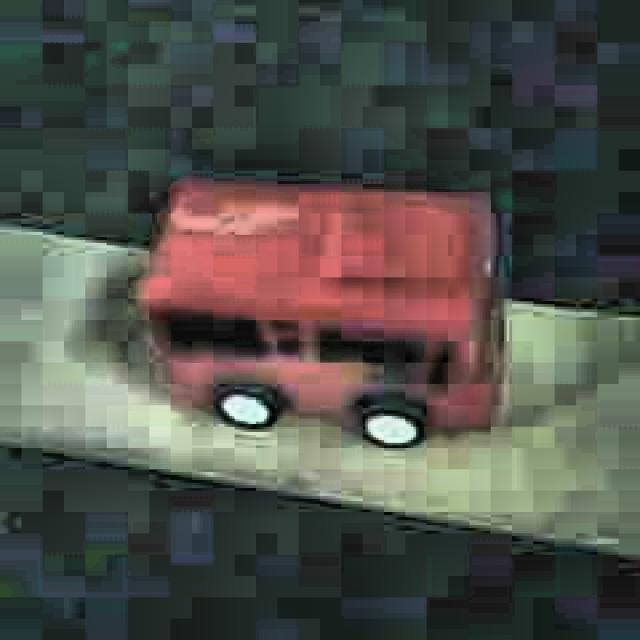bus: (131, 162, 506, 450)
